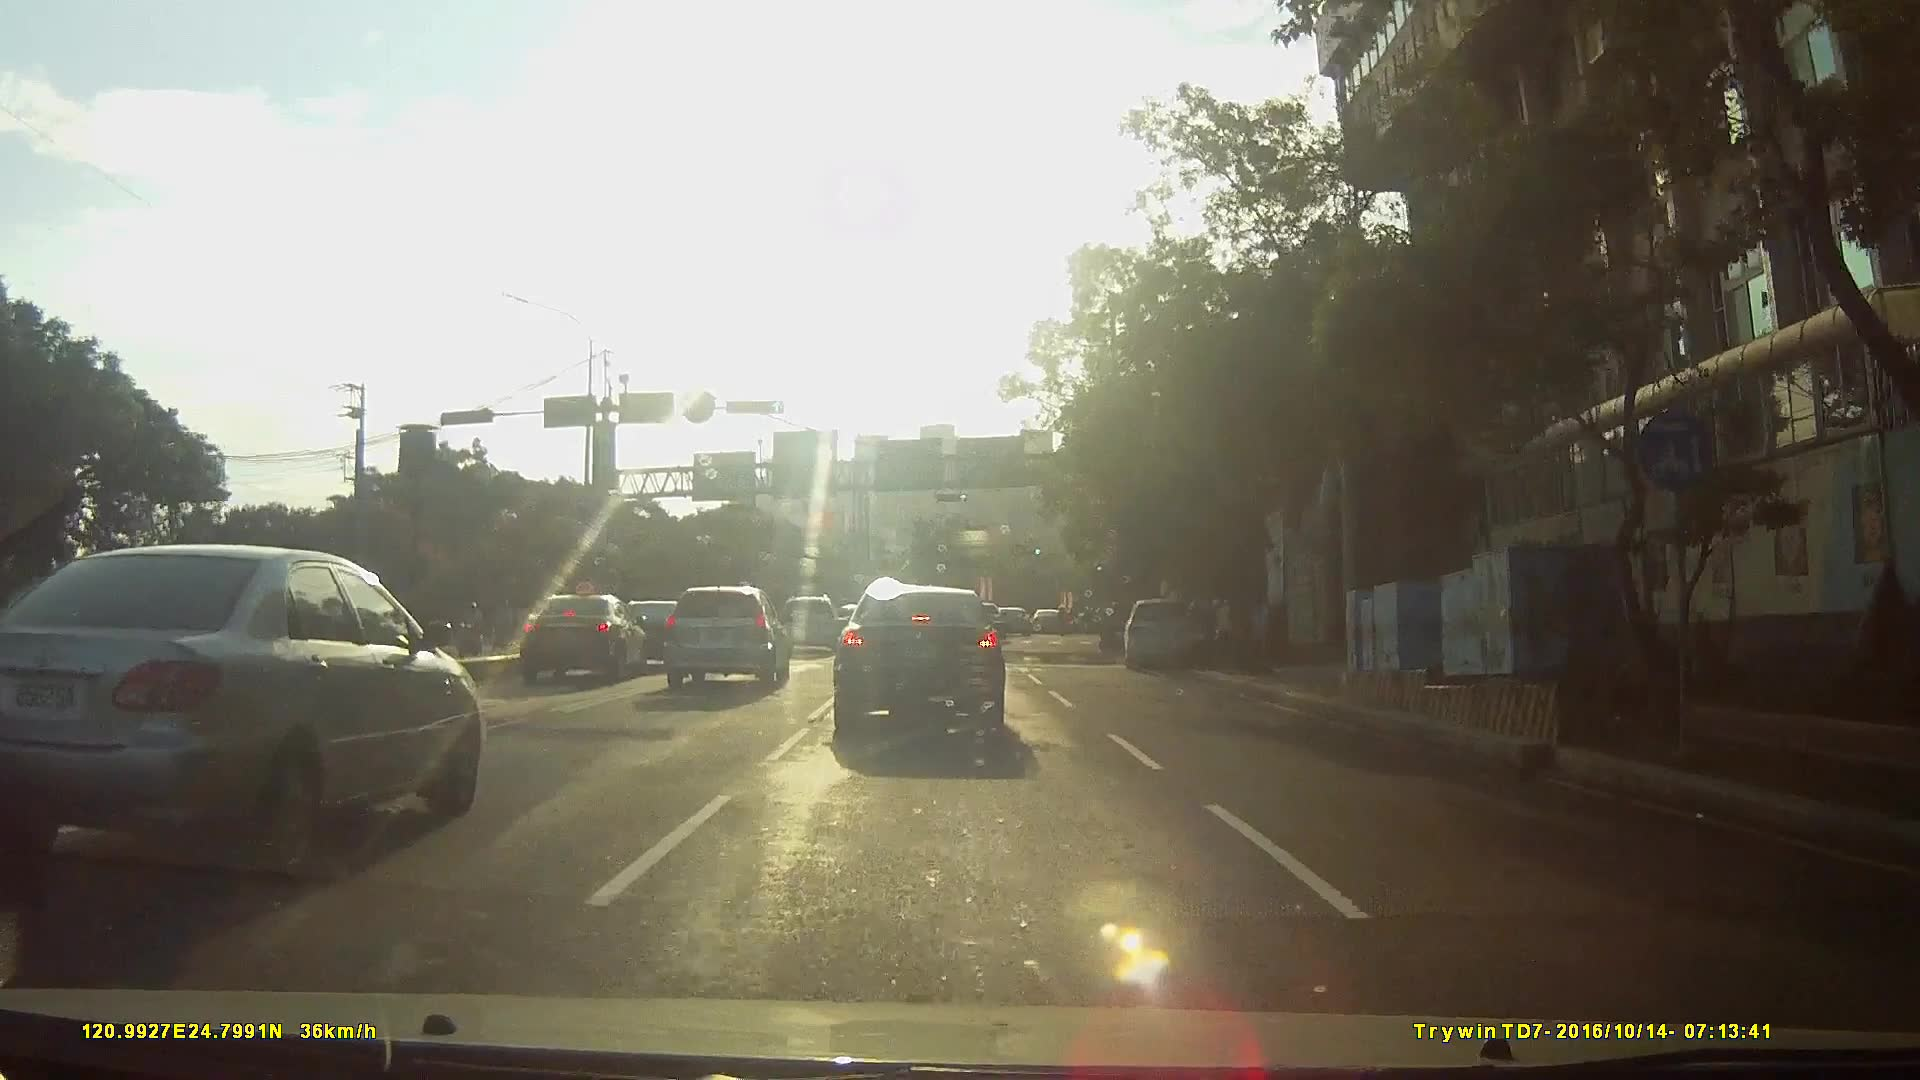pedestrian: (1211, 601, 1236, 664)
rider: (457, 599, 485, 660)
vehicle: (1, 544, 504, 892), (824, 601, 1023, 771), (657, 588, 790, 692), (494, 597, 636, 692), (1128, 599, 1212, 677), (600, 602, 684, 671), (776, 599, 845, 662), (995, 610, 1034, 642), (1030, 610, 1071, 638)
